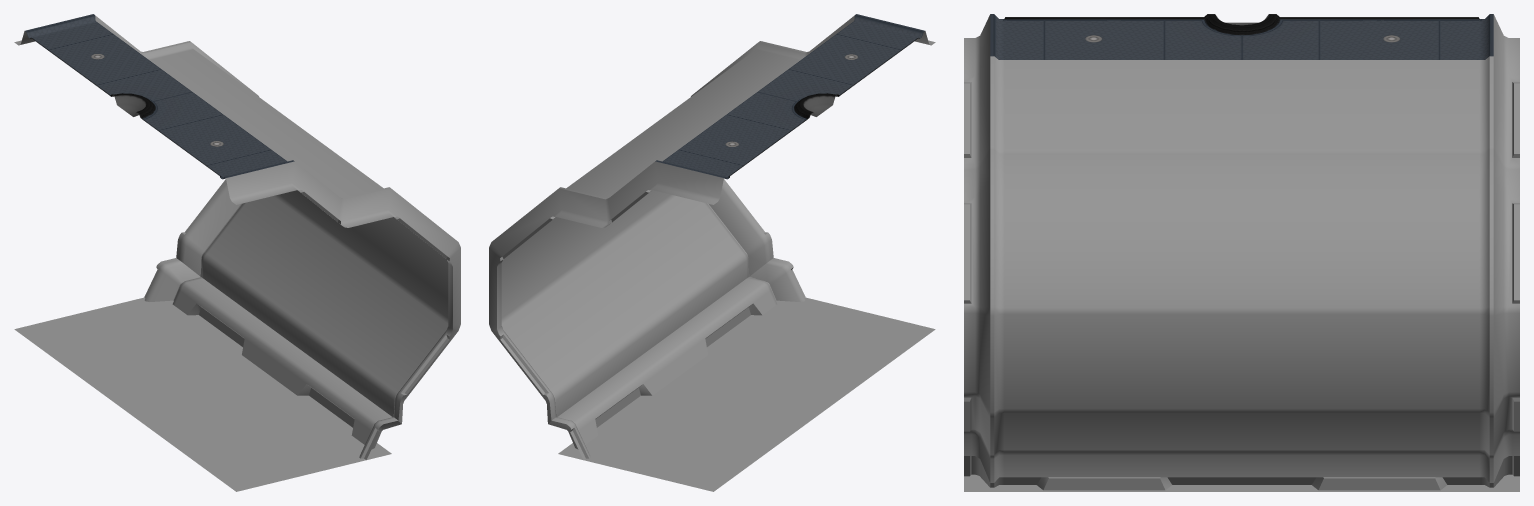
The model's file is Corr_A_4m.fbx.
3 views of the same model, side by side, from view 1: azimuth 30°, elevation 25°; view 2: azimuth 150°, elevation 25°; view 3: azimuth 270°, elevation 25° (orthographic). The views are drawn at different scales.
Visible parts, largest first — view 1: Corr_A_4m; view 2: Corr_A_4m; view 3: Corr_A_4m.
Boxes of the visible parts, x1,y1,x2,y2 form: Corr_A_4m: [14, 14, 460, 491]; Corr_A_4m: [489, 14, 935, 491]; Corr_A_4m: [964, 14, 1519, 491].
Bounding box in the file's own units: 244 × 304 × 400.
Materials: 5 (1 with a texture image).
